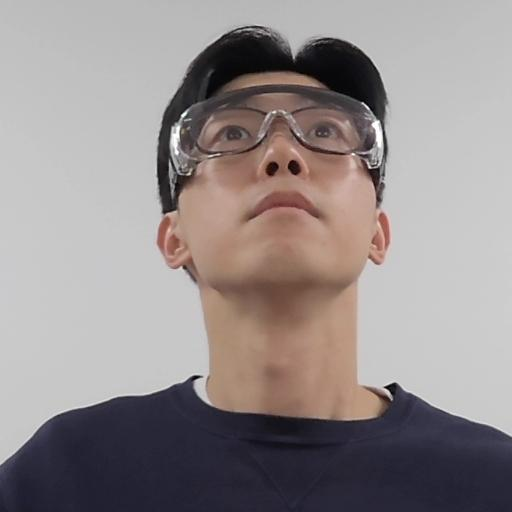glasses: (146, 22, 402, 322)
